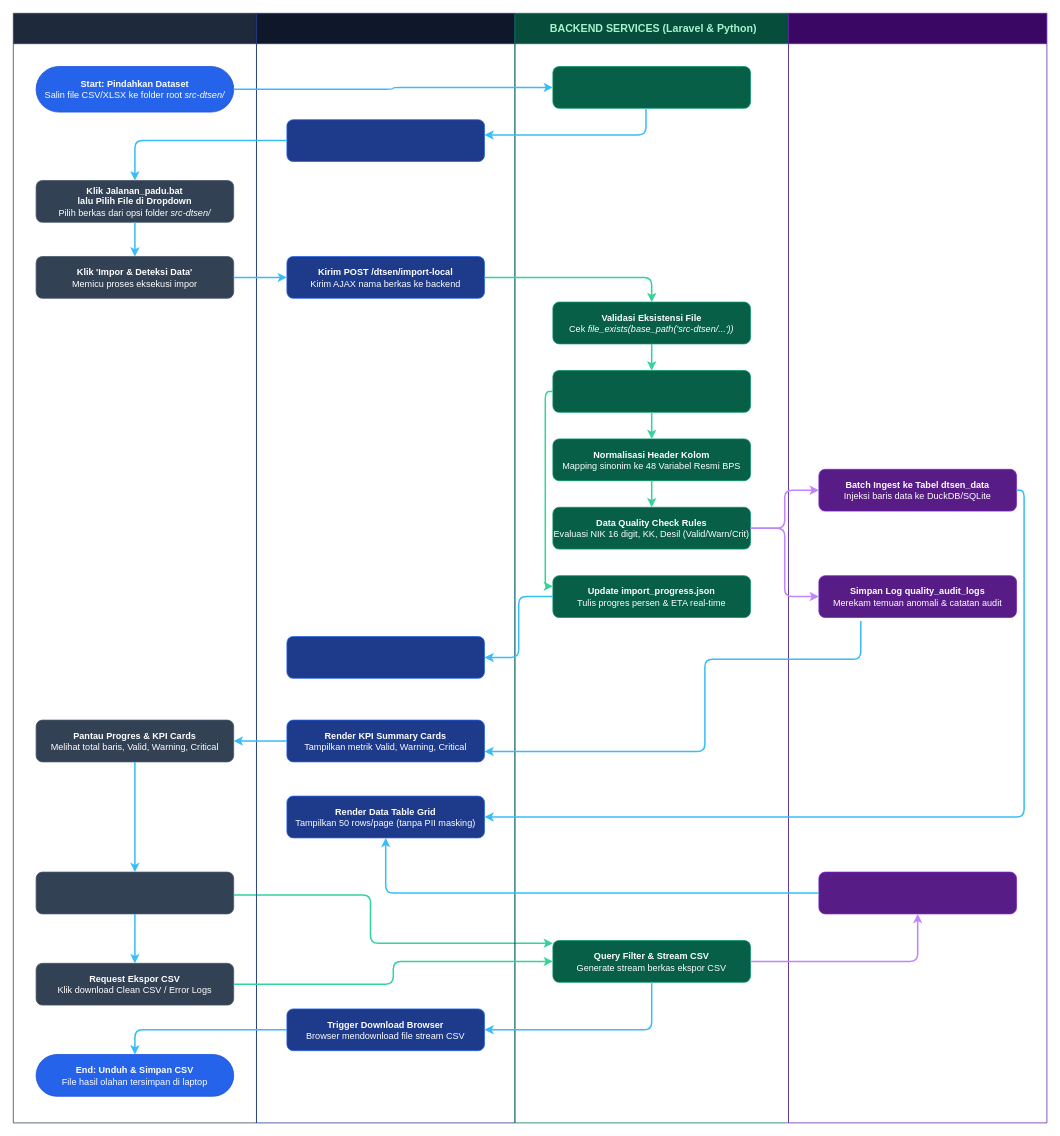
Some shapes in this 1060 by 1136 pixel diagram are drawn without their labels. The box of each missing label's shape, as (x1, y1, x2, y2) in pixels:
Auto-Scan base_path('src-dtsen/') Deteksi file CSV/XLSX via scandir(): (552, 66, 750, 108)
Eksekusi Query Table Scan Pencarian data sesuai kriteria filter user: (818, 871, 1016, 914)
FRONTEND UI (index.blade.php): (256, 13, 515, 1123)
Jalankan fast_import.py Stream Ingestion baca baris bertahap: (552, 370, 750, 412)
OPERATOR DATA (USER): (13, 13, 256, 1123)
Poll /dtsen/import-progress Baca persen progres, baris diproses, & ETA: (286, 636, 484, 678)
Render Dropdown Selector Tampilkan list berkas folder src-dtsen/: (286, 119, 484, 162)
STORAGE LAYER (DuckDB / Database): (788, 13, 1047, 1123)
Terapkan Filter Multi-Kolom Filter Wilayah, Desil 1-10, Status Kualitas: (35, 871, 234, 914)
